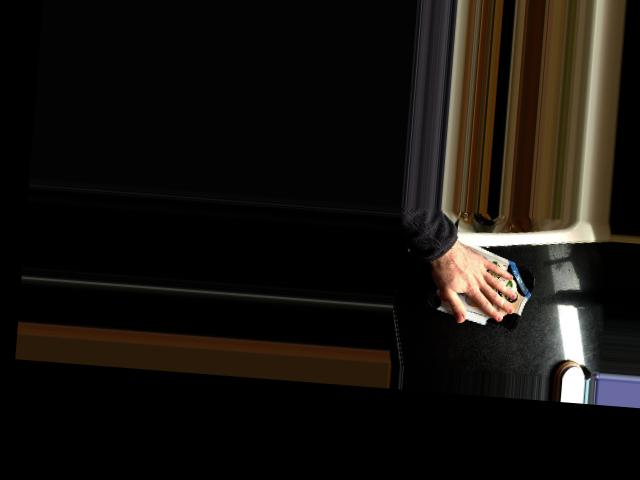cheese: (423, 233, 539, 335)
